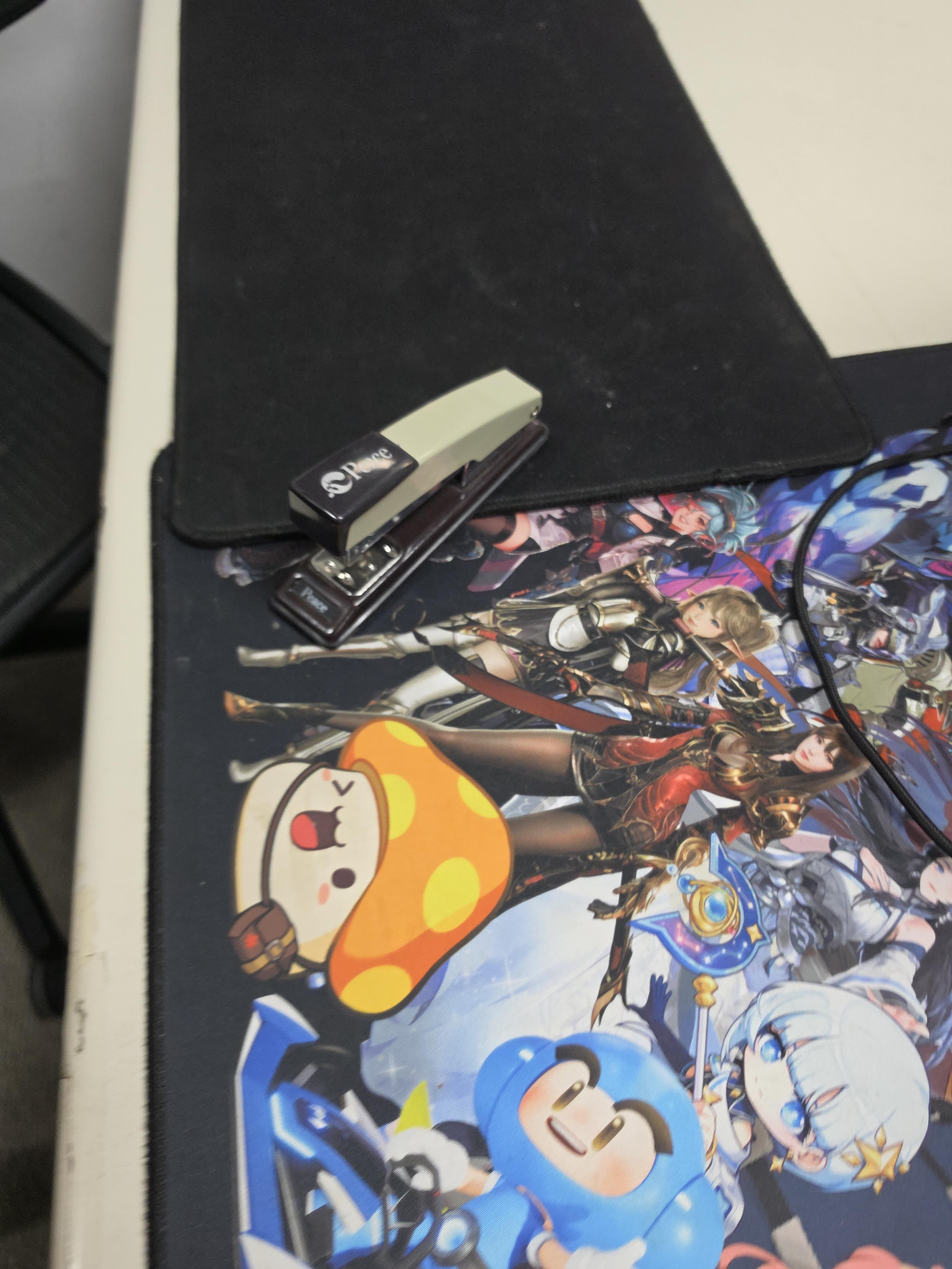stapler: (271, 365, 551, 648)
